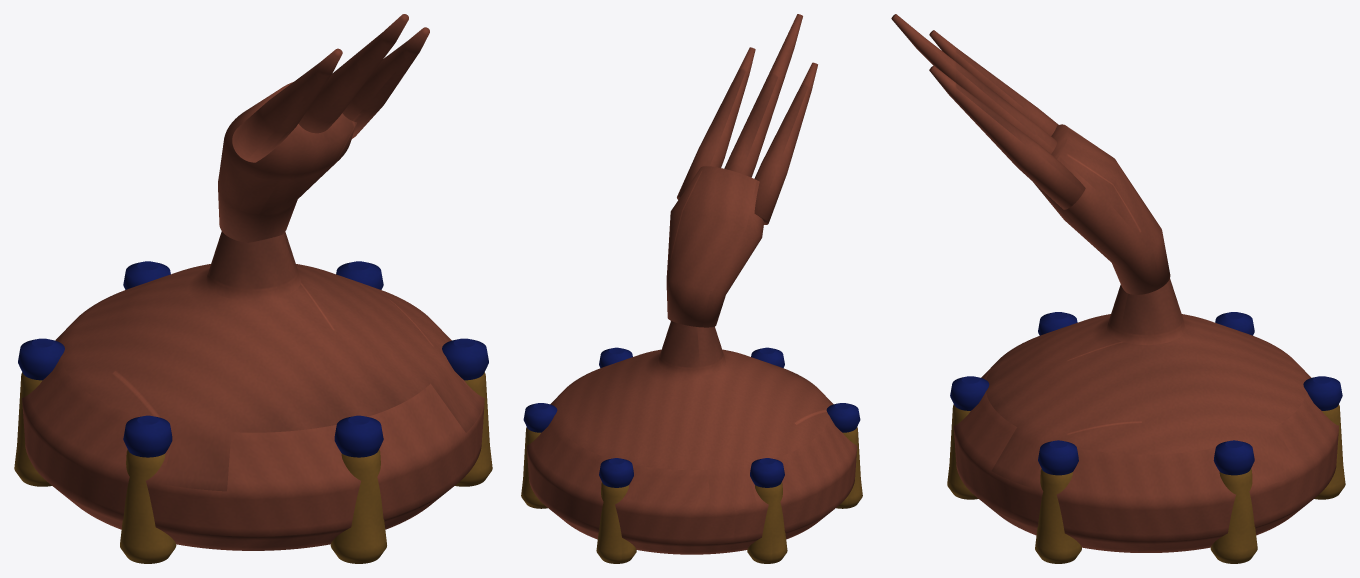
3 views of the same model, side by side, from view 1: azimuth 30°, elevation 25°; view 2: azimuth 150°, elevation 25°; view 3: azimuth 270°, elevation 25° (orthographic). The views are drawn at different scales.
Visible parts, largest first — view 1: BR20 rose domed pedestal and narrow neck, BR20 rose rising head casing, BR20 separate emitter prong 0, BR20 gold radial foot 5, BR20 gold radial foot 0, BR20 separate emitter prong 1, BR20 separate emitter prong 2, BR20 foot upper cap 0, BR20 foot upper cap 5, BR20 foot upper cap 1, BR20 foot upper cap 4, BR20 gold radial foot 4 (+3 smaller); view 2: BR20 rose domed pedestal and narrow neck, BR20 rose rising head casing, BR20 separate emitter prong 0, BR20 separate emitter prong 1, BR20 separate emitter prong 2, BR20 gold radial foot 4, BR20 gold radial foot 3, BR20 foot upper cap 3, BR20 foot upper cap 4, BR20 foot upper cap 2, BR20 foot upper cap 5, BR20 gold radial foot 5 (+3 smaller); view 3: BR20 rose domed pedestal and narrow neck, BR20 rose rising head casing, BR20 separate emitter prong 2, BR20 separate emitter prong 1, BR20 gold radial foot 2, BR20 gold radial foot 1, BR20 separate emitter prong 0, BR20 foot upper cap 1, BR20 foot upper cap 2, BR20 foot upper cap 0, BR20 foot upper cap 3, BR20 gold radial foot 0 (+3 smaller).
Part boxes in pixels (x1,y1,x2,y2): BR20 rose domed pedestal and narrow neck: [22, 231, 484, 550]; BR20 rose rising head casing: [218, 82, 356, 242]; BR20 separate emitter prong 0: [232, 48, 342, 162]; BR20 gold radial foot 5: [120, 449, 176, 563]; BR20 gold radial foot 0: [330, 449, 386, 563]; BR20 separate emitter prong 1: [298, 14, 408, 133]; BR20 separate emitter prong 2: [342, 27, 429, 138]; BR20 foot upper cap 0: [334, 415, 383, 457]; BR20 foot upper cap 5: [123, 415, 172, 457]; BR20 foot upper cap 1: [442, 338, 488, 380]; BR20 foot upper cap 4: [18, 338, 64, 380]; BR20 gold radial foot 4: [14, 372, 51, 486]; BR20 rose domed pedestal and narrow neck: [526, 321, 857, 554]; BR20 rose rising head casing: [666, 166, 763, 327]; BR20 separate emitter prong 0: [754, 62, 817, 224]; BR20 separate emitter prong 1: [724, 14, 802, 177]; BR20 separate emitter prong 2: [677, 47, 755, 199]; BR20 gold radial foot 4: [747, 482, 787, 563]; BR20 gold radial foot 3: [596, 482, 636, 563]; BR20 foot upper cap 3: [599, 458, 633, 487]; BR20 foot upper cap 4: [750, 458, 784, 487]; BR20 foot upper cap 2: [523, 403, 557, 432]; BR20 foot upper cap 5: [826, 403, 860, 432]; BR20 gold radial foot 5: [836, 427, 862, 508]; BR20 rose domed pedestal and narrow neck: [953, 279, 1338, 552]; BR20 rose rising head casing: [1033, 124, 1170, 294]; BR20 separate emitter prong 2: [929, 65, 1085, 209]; BR20 separate emitter prong 1: [891, 14, 1056, 153]; BR20 gold radial foot 2: [1210, 468, 1257, 563]; BR20 gold radial foot 1: [1035, 468, 1081, 563]; BR20 separate emitter prong 0: [929, 30, 1058, 135]; BR20 foot upper cap 1: [1038, 440, 1078, 475]; BR20 foot upper cap 2: [1213, 440, 1254, 475]; BR20 foot upper cap 0: [950, 376, 989, 410]; BR20 foot upper cap 3: [1303, 376, 1342, 410]; BR20 gold radial foot 0: [947, 404, 978, 499].
Size of the model in its own units: 1.56 by 2.13 by 1.84.
3 materials, 3 textured.
